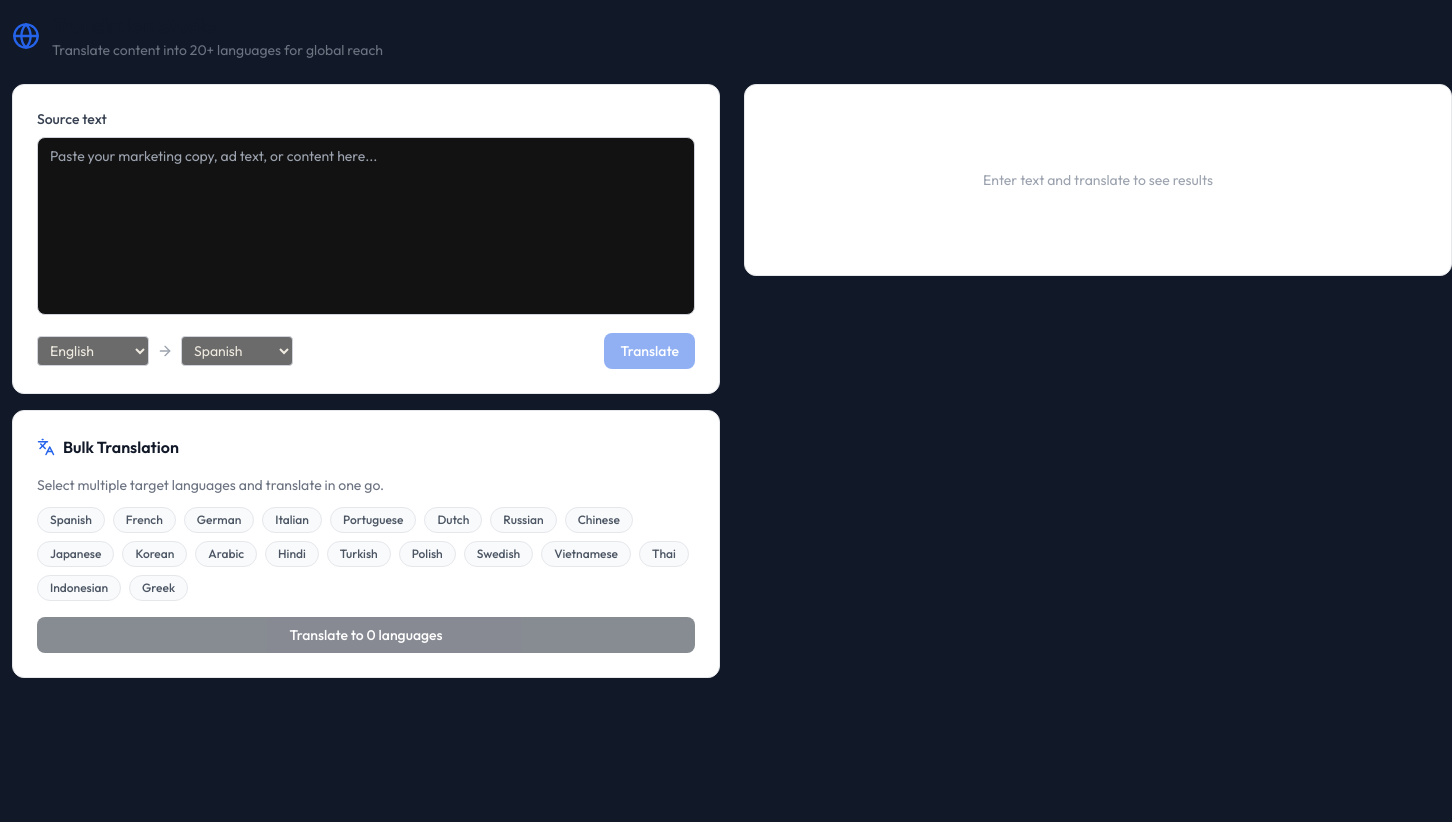
Test case: visible studio failures › translation quota errors offer Billing, retain input, and allow a successful retry
Type "Keep this marketing copy" into the text box with placeholder "Paste your marketing copy, ad text, or content here..." at (366, 226), box [37,137,695,315]
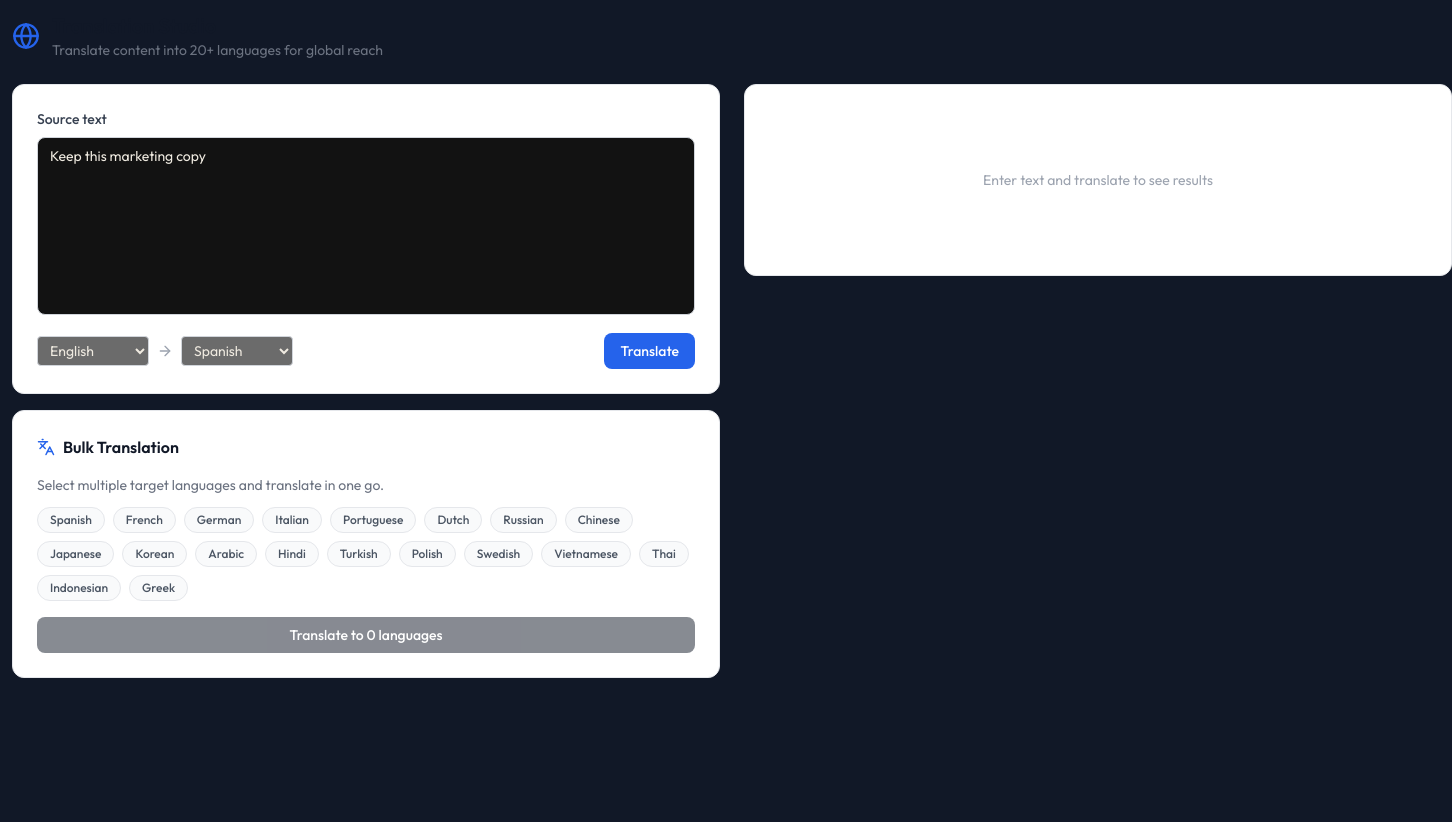
Click the button "Translate" at (650, 351), box [604,333,695,369]
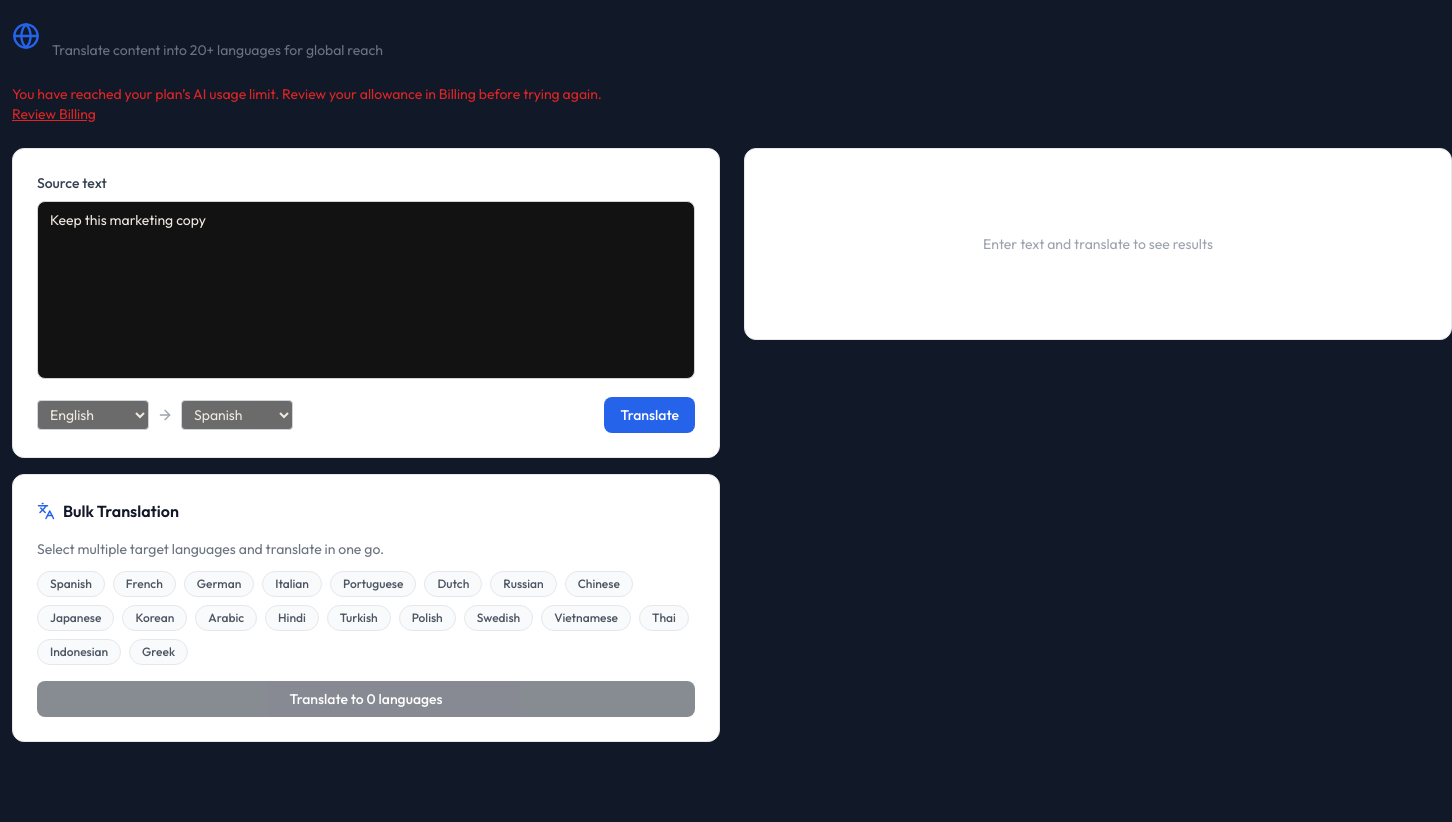
Now the message shows "usage limit", box [12,85,602,103]
Click the button "Translate" at (650, 415), box [604,397,695,433]
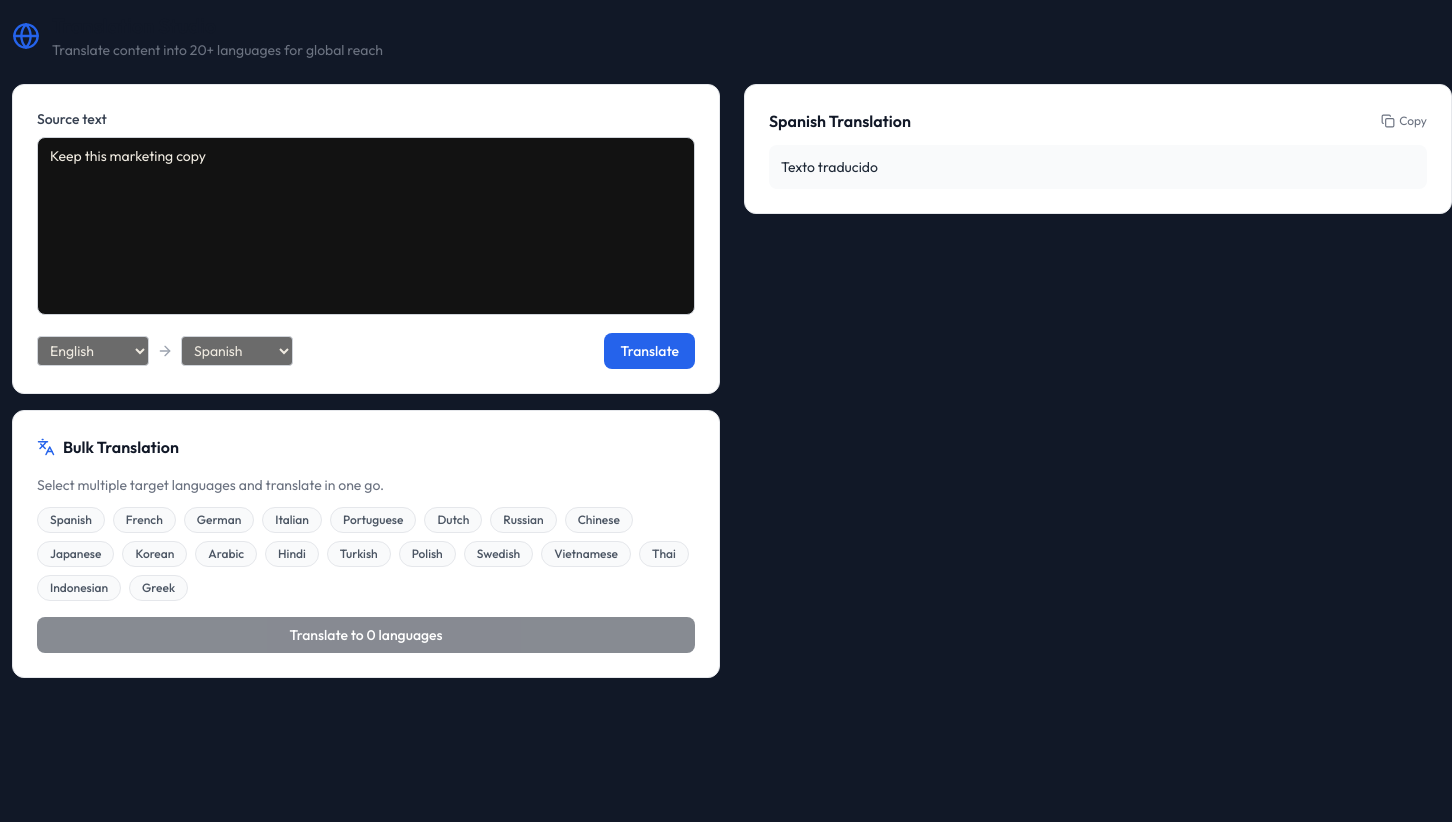
Now the text "Texto traducido" is shown, box [769,145,1427,189]
Now the message is gone
